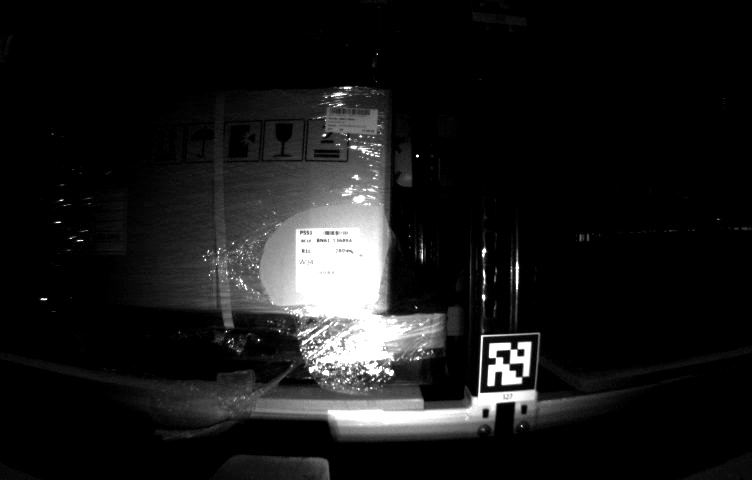True Barcode: (296, 225, 366, 297)
